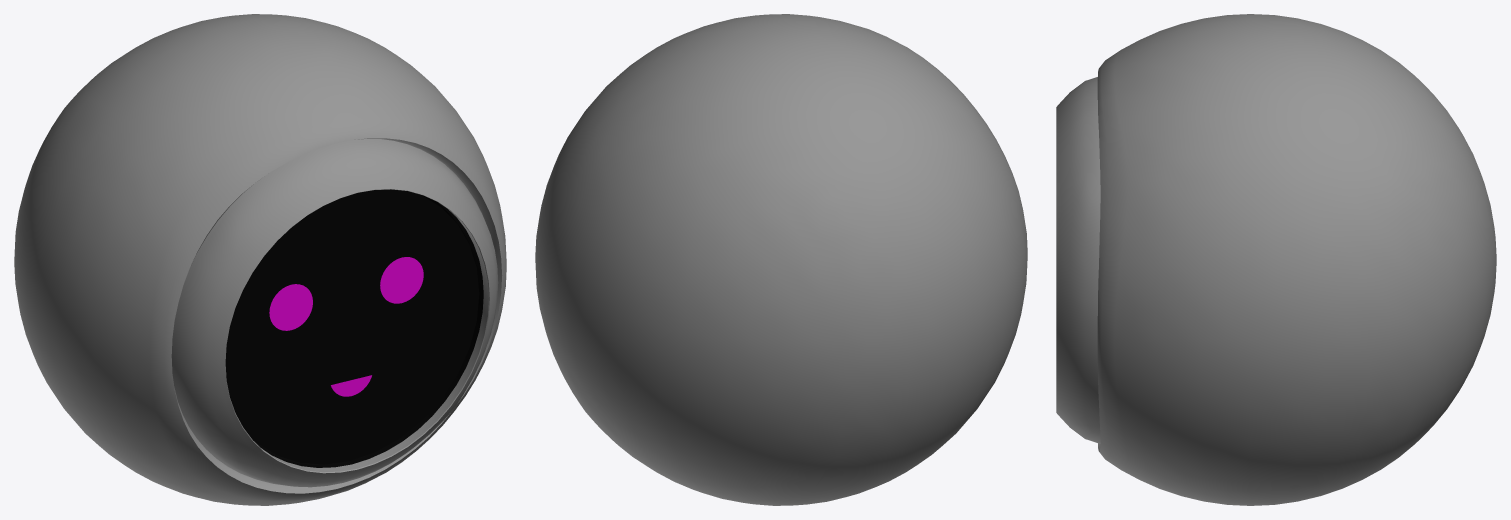
Rendered from finalDraco.gltf.
3 renders of one model, left to right at view 1: azimuth 30°, elevation 25°; view 2: azimuth 150°, elevation 25°; view 3: azimuth 270°, elevation 25°, orthographic.
Visible parts, largest first — view 1: Cube, Circle.001, Plane, Plane.006, Plane.004, Plane.005, Plane.001, Plane.002, Circle.003, Circle.002; view 2: Cube; view 3: Cube.
Boxes of the visible parts, x1,y1,x2,y2 form: Cube: (14, 14, 506, 505); Circle.001: (225, 189, 479, 464); Plane: (257, 328, 326, 388); Plane.006: (325, 321, 380, 386); Plane.004: (373, 205, 427, 261); Plane.005: (381, 302, 432, 358); Plane.001: (269, 231, 317, 286); Plane.002: (329, 394, 384, 444); Circle.003: (380, 257, 423, 303); Circle.002: (269, 284, 312, 330); Cube: (535, 14, 1027, 505); Cube: (1056, 14, 1496, 505).
Bounding box in the file's own units: 1.69 × 1.69 × 1.51.
